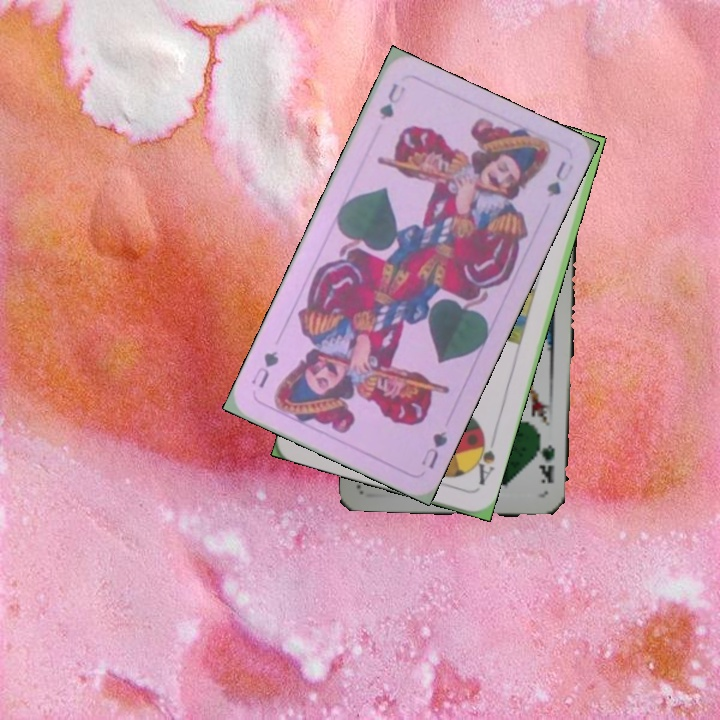GK: (534, 433, 558, 486)
GU: (417, 427, 450, 472), (375, 79, 408, 123)
SA: (468, 430, 499, 488)
